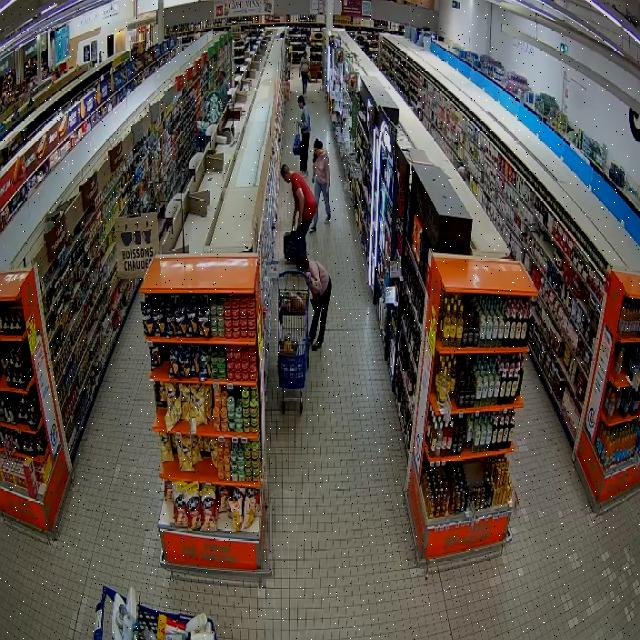bags: (284, 229, 298, 262), (311, 297, 321, 312)
hands: (297, 217, 303, 226), (306, 271, 311, 279), (291, 218, 295, 227)
person: (297, 256, 331, 350), (281, 165, 316, 256), (310, 138, 330, 232), (298, 96, 310, 176)
